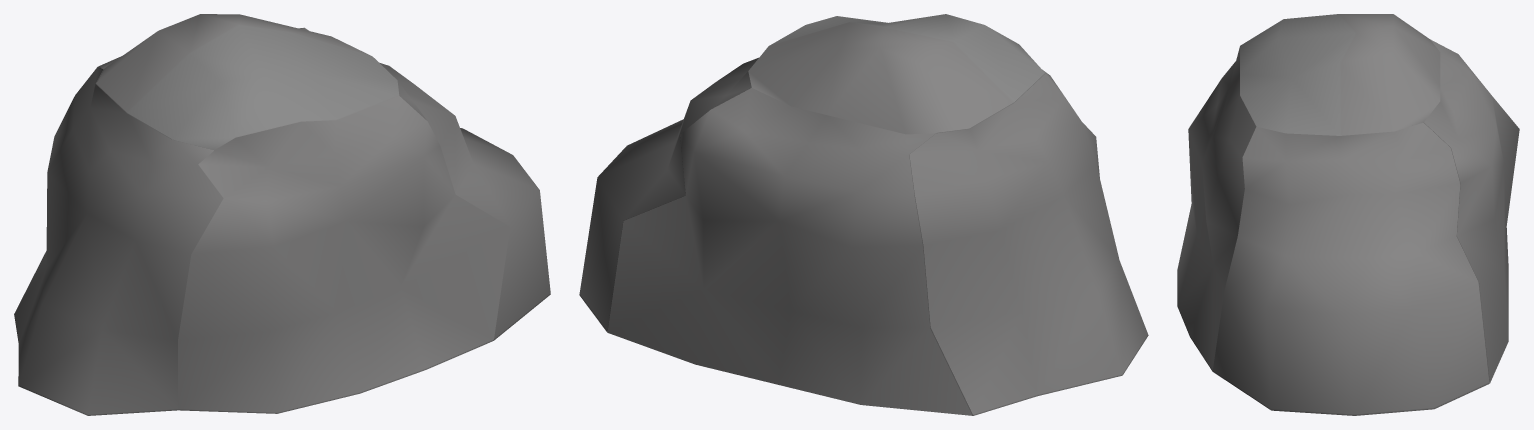
File: stone_m.obj
The picture shows the model from 3 angles, left to right: view 1: azimuth 30°, elevation 25°; view 2: azimuth 150°, elevation 25°; view 3: azimuth 270°, elevation 25°; orthographic projection. The views are drawn at different scales.
Parts seen in each view (by area): view 1: pCube1; view 2: pCube1; view 3: pCube1.
Part boxes in pixels (x1,y1,x2,y2): pCube1: (14, 14, 550, 415); pCube1: (579, 14, 1148, 415); pCube1: (1177, 14, 1519, 415).
Size of the model in its own units: 3.88 by 2.21 by 2.58.
Materials: 1 (1 with a texture image).
